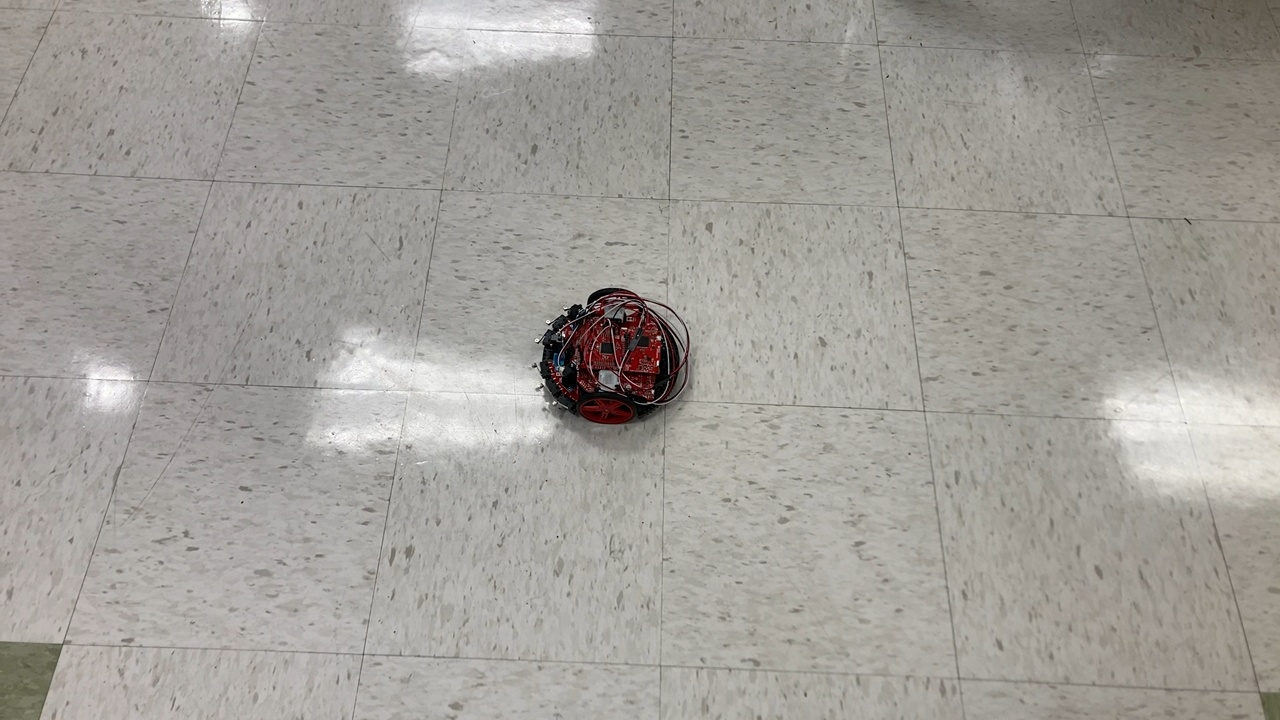robot: (524, 285, 696, 430)
